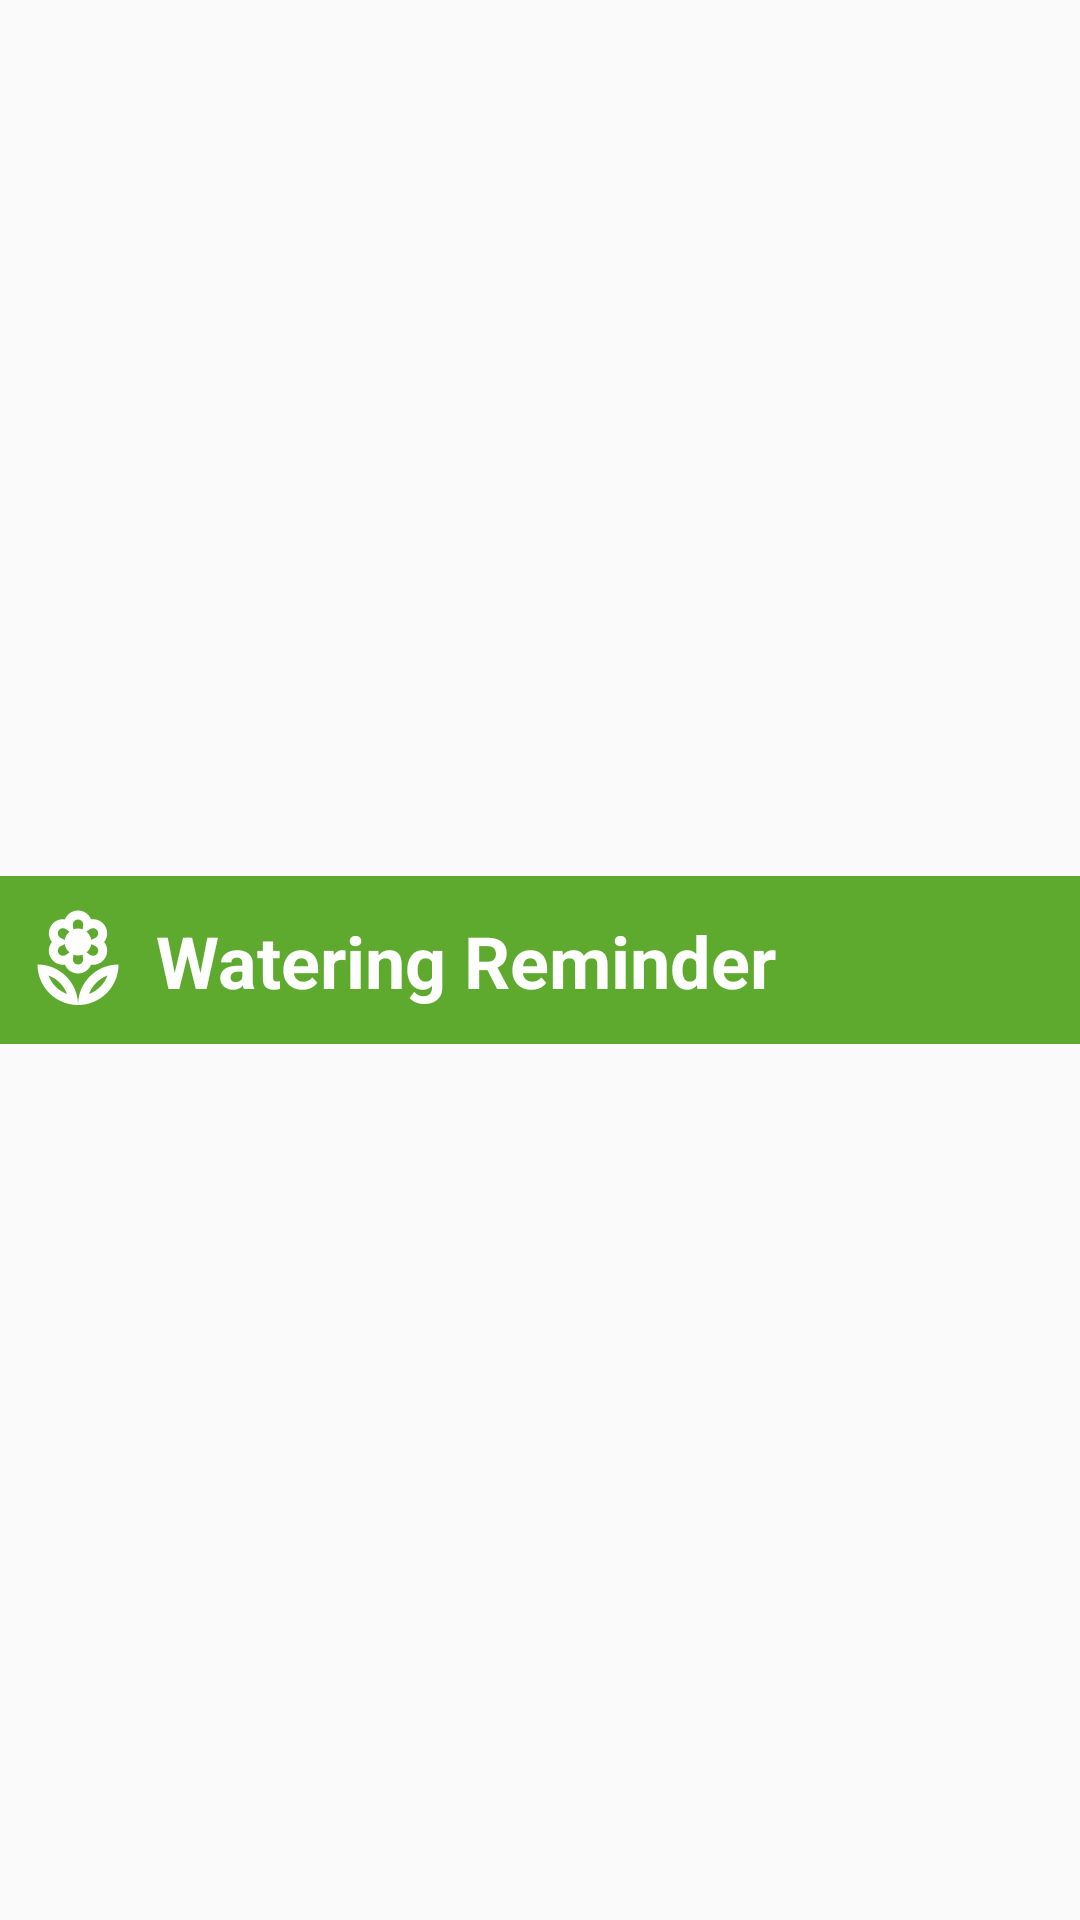

Icon bounding boxes for this 1080w x 1920h phone screenshot, format (x1, y1, x2, y2):
Flower: (37, 910, 119, 1005)
